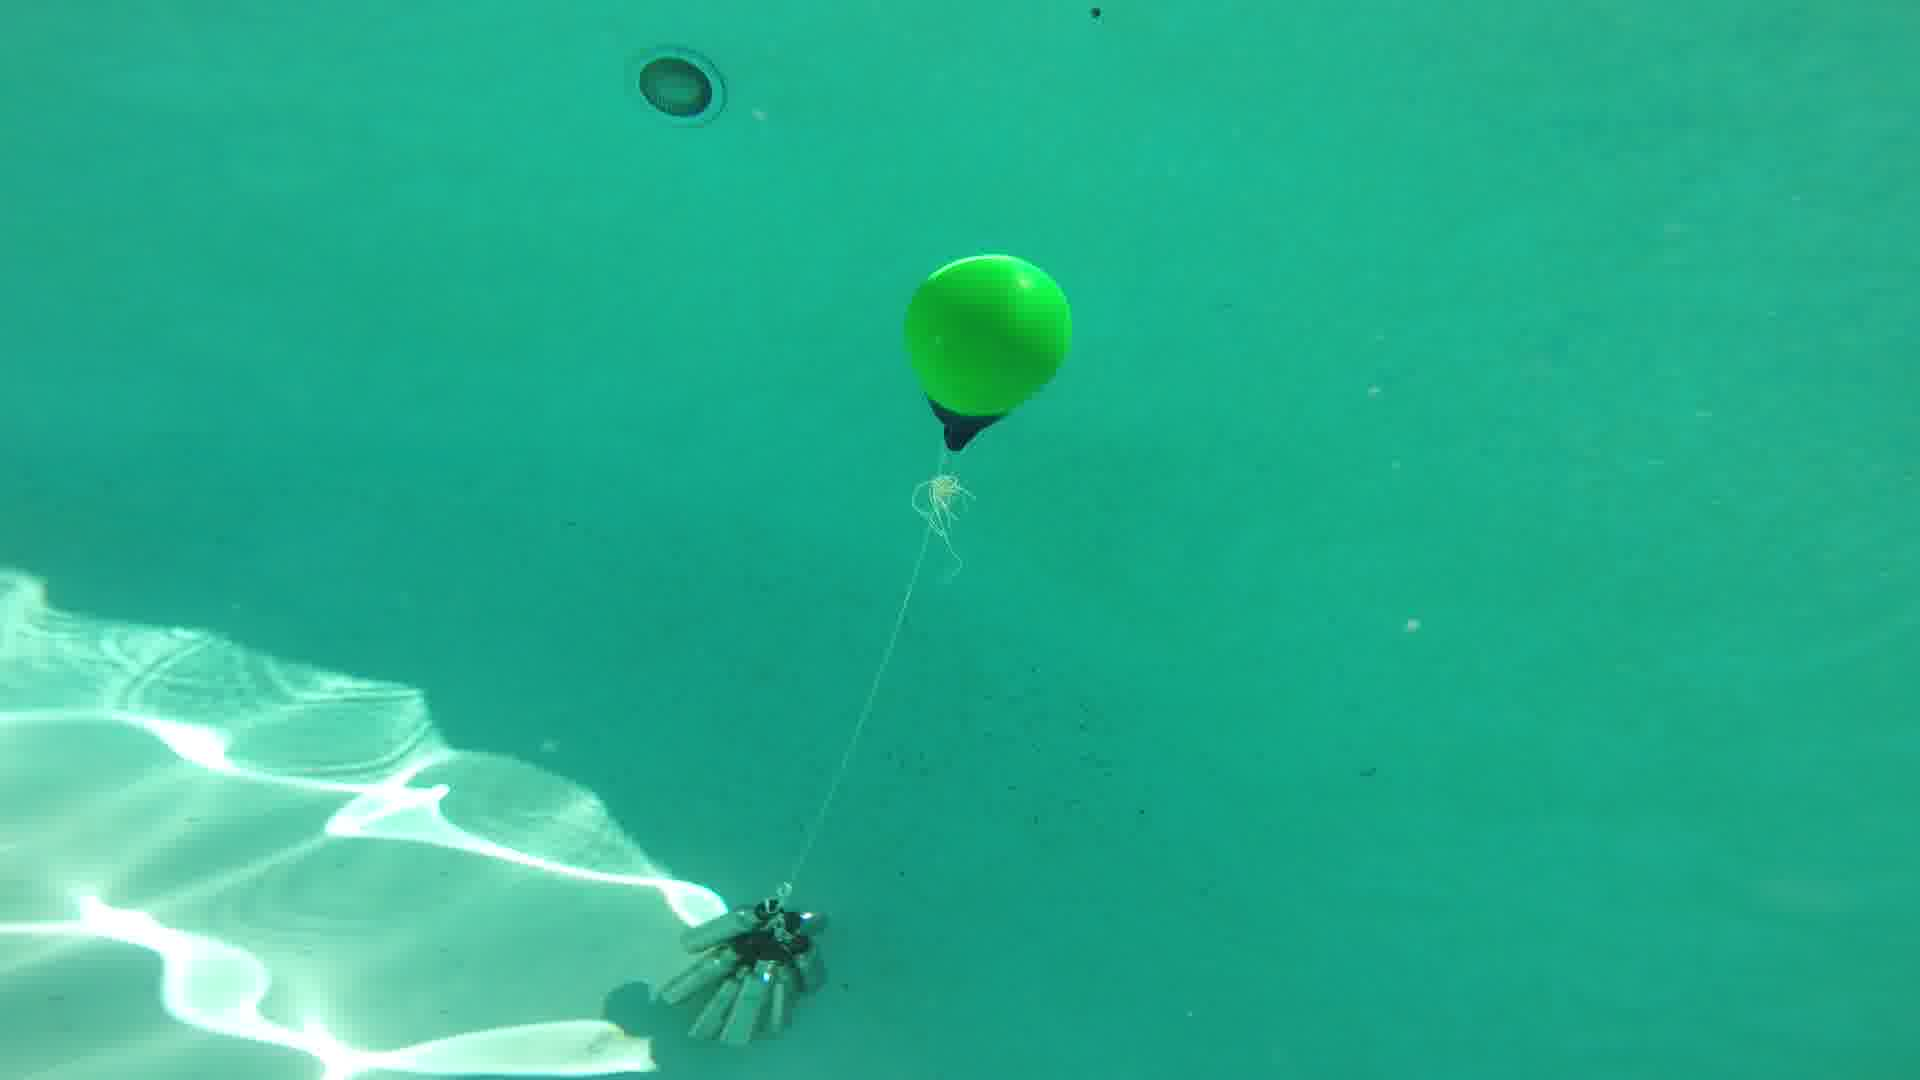yellow_buoy: (902, 252, 1075, 454)
